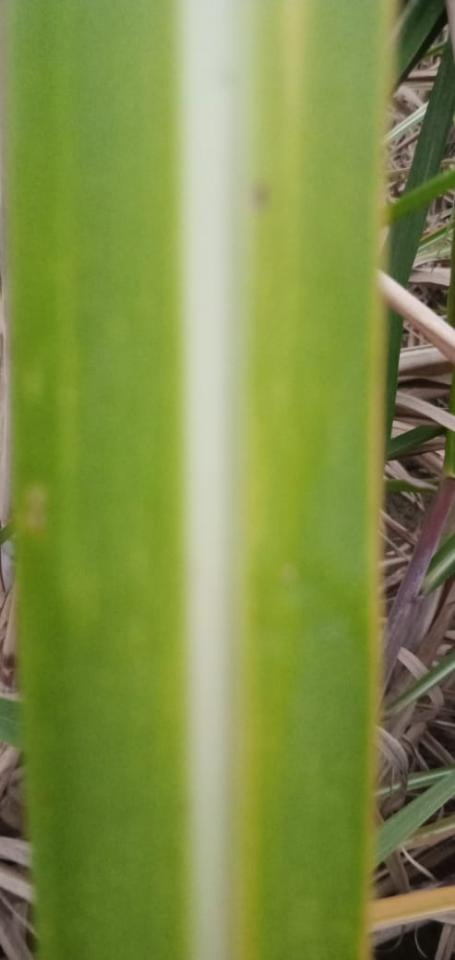Rust: (247, 180, 267, 215)
Yellow: (359, 295, 383, 959), (236, 640, 257, 959)
